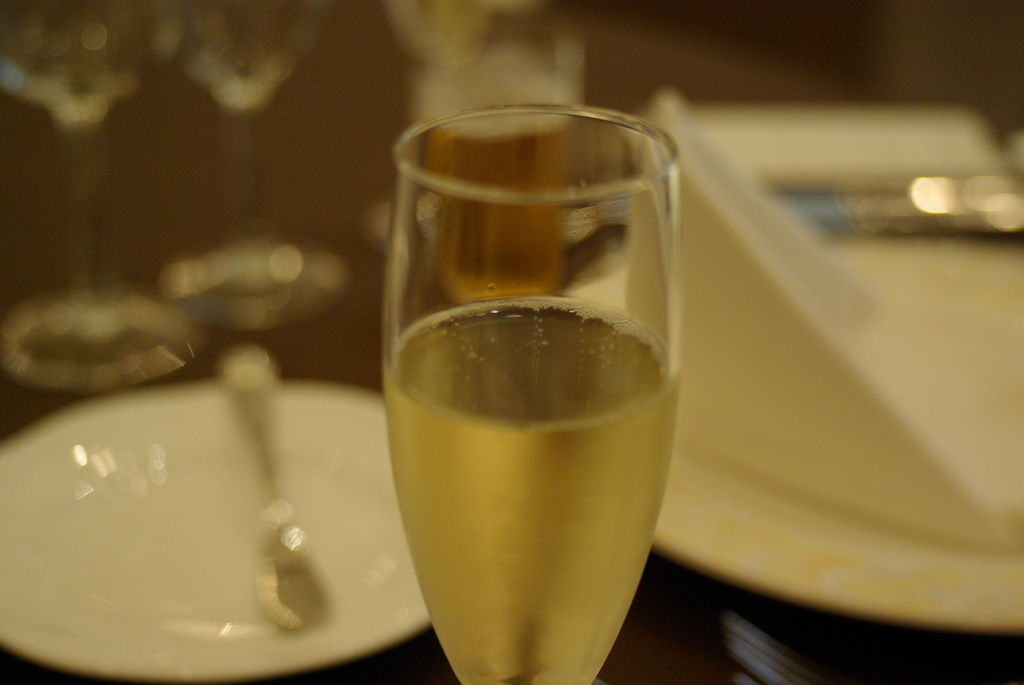plate: (15, 354, 388, 665)
